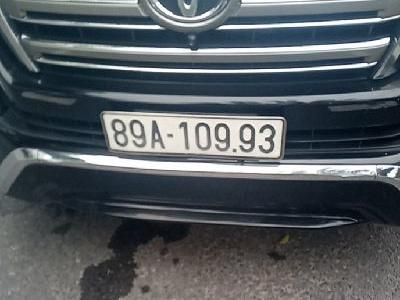lisence: (100, 110, 288, 162)
